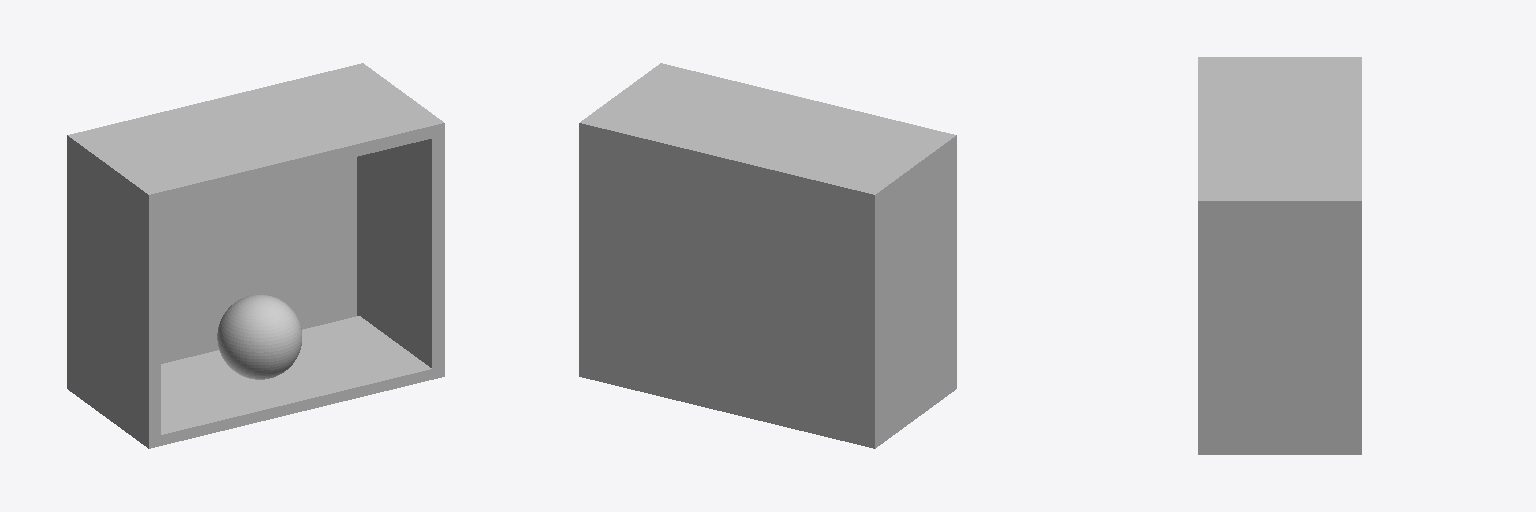
The model's file is Plaster 9_obj.obj.
3 renders of one model, left to right at view 1: azimuth 30°, elevation 25°; view 2: azimuth 150°, elevation 25°; view 3: azimuth 270°, elevation 25°, orthographic.
Visible parts, largest first — view 1: Plaster_9; view 2: Plaster_9; view 3: Plaster_9.
Boxes of the visible parts, <box> form: Plaster_9: <box>67,63,444,448</box>; Plaster_9: <box>579,63,956,448</box>; Plaster_9: <box>1198,57,1361,454</box>.
Bounding box in the file's own units: 3208 × 2631 × 1534.